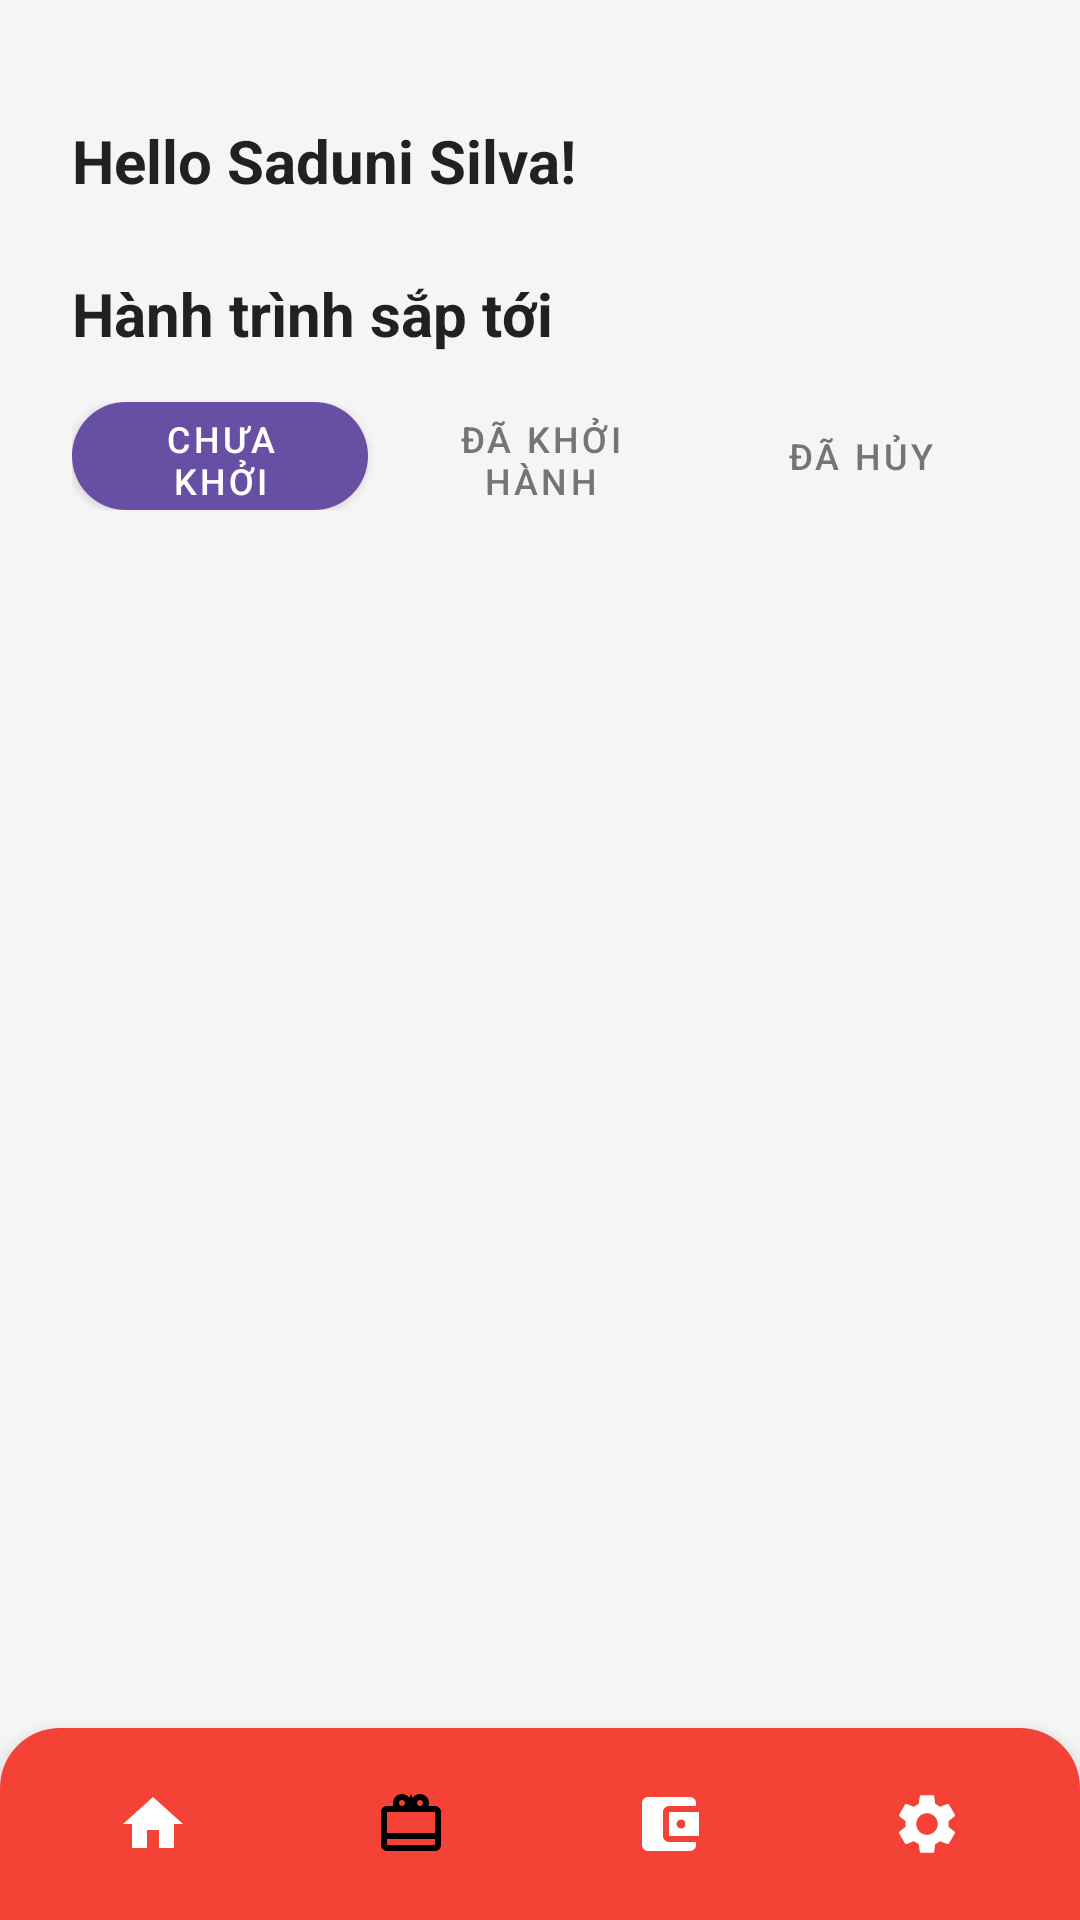

Locate icon controls on the screen. Image size 1080 × 1920, boxes as rect(x1, y1, x2, y2).
Home: rect(123, 1797, 183, 1848)
Settings: rect(899, 1795, 955, 1853)
Wallet: rect(642, 1797, 699, 1851)
